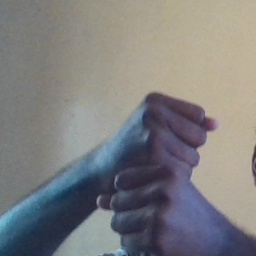G: (100, 89, 224, 256)
